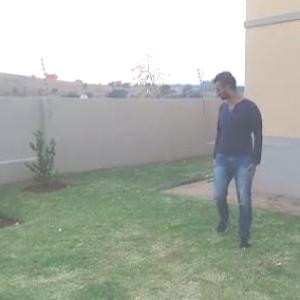follow: (206, 66, 268, 250)
